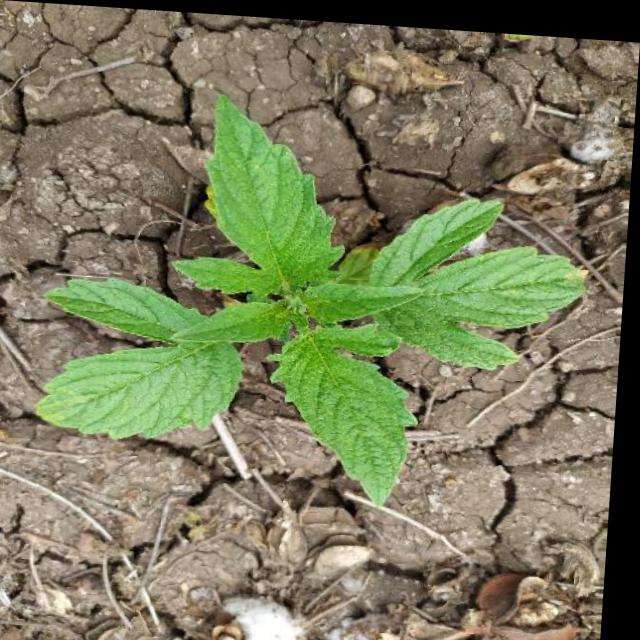crop: (30, 84, 608, 529)
